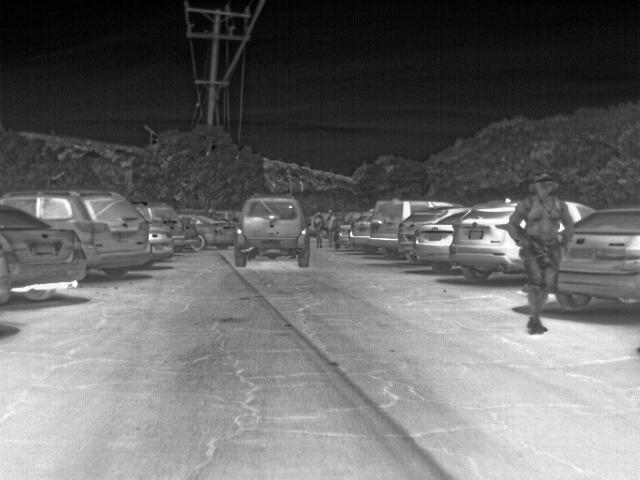car: (0, 190, 150, 278), (0, 203, 91, 305), (556, 207, 639, 312), (233, 191, 310, 269), (449, 201, 521, 283), (369, 198, 461, 257), (412, 207, 471, 273), (400, 206, 467, 262), (148, 203, 200, 256), (179, 213, 236, 251), (147, 220, 175, 268), (350, 212, 372, 251), (338, 212, 353, 247)
dog: (329, 230, 339, 244)
person: (506, 168, 574, 336), (312, 210, 327, 247), (324, 209, 336, 245)
